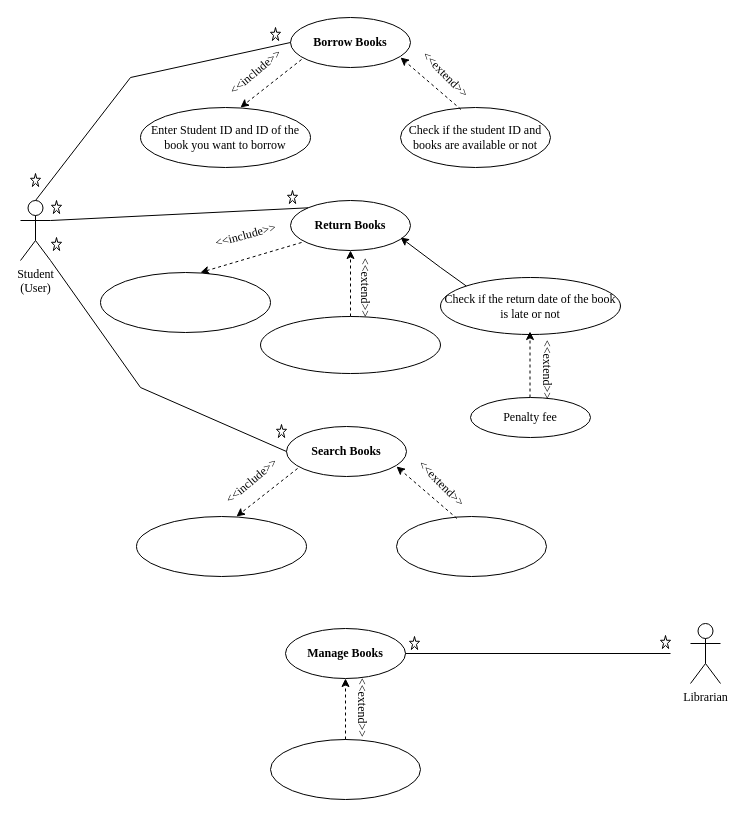
The diagram is 745 pixels wide and 817 high, and some of its shapes have lost their labels. The centre of each missing label's shape, as x and y in pixels:
Check and display if the book is available or not: (471,546)
Check if the student id and book id are in the loan data or not: (350,345)
Enter book title you want to search: (221,546)
Enter Student ID and ID of the book you want to return: (185,302)
Update books like, add, reduce, and delete books: (345,769)
